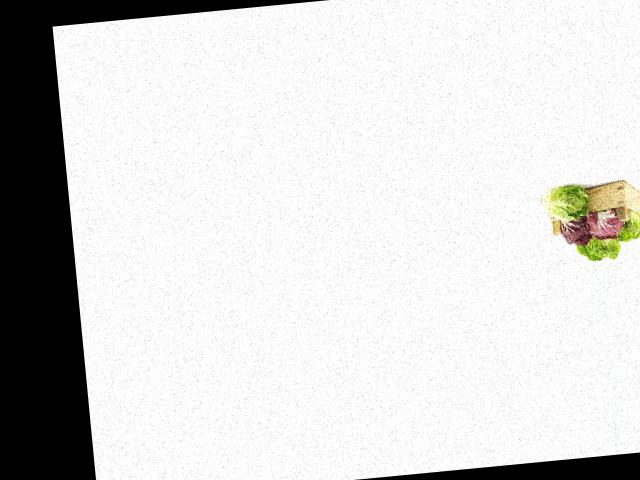lettuce: (575, 228, 621, 263)
